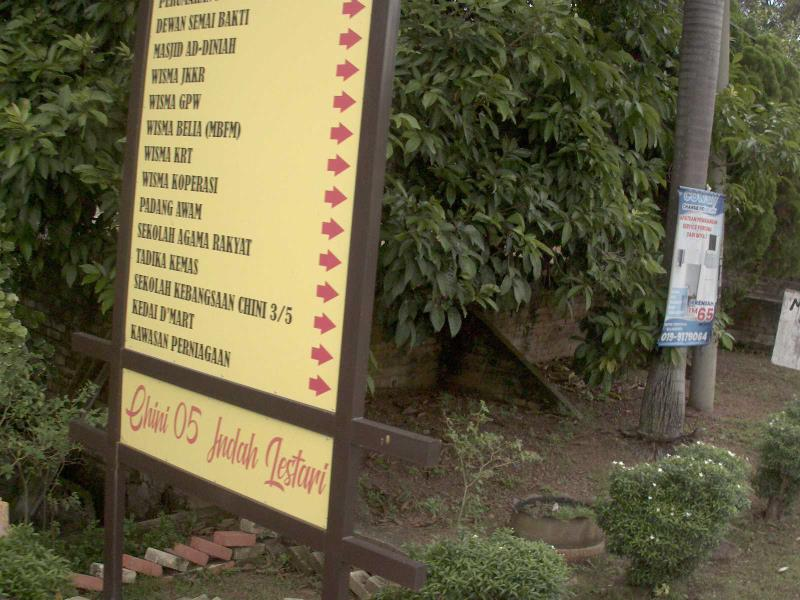ads_sign: (67, 1, 406, 567), (651, 172, 737, 360)
